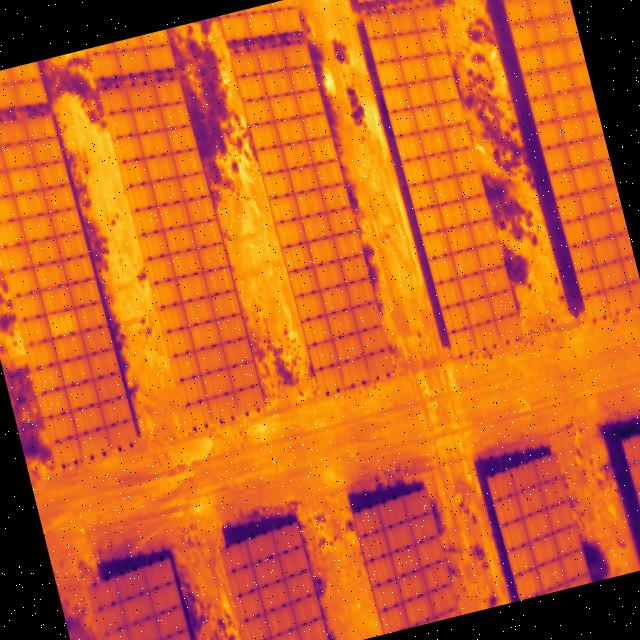Hotspot: (48, 308, 78, 336)
